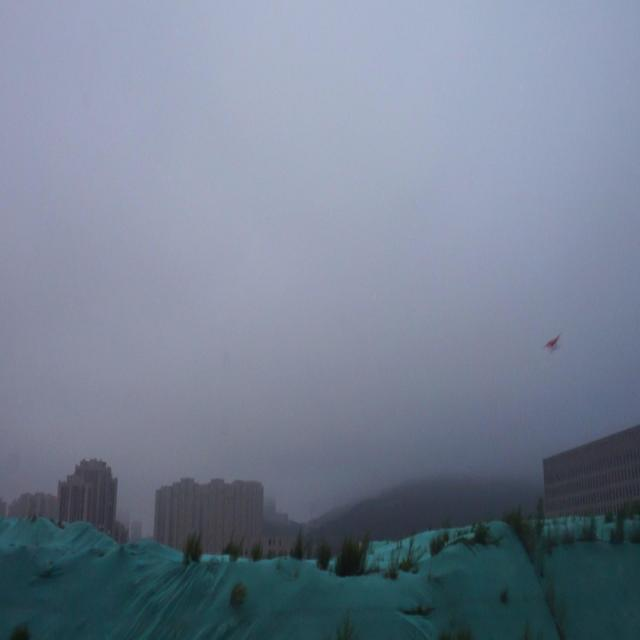UAV: (543, 333, 562, 351)
